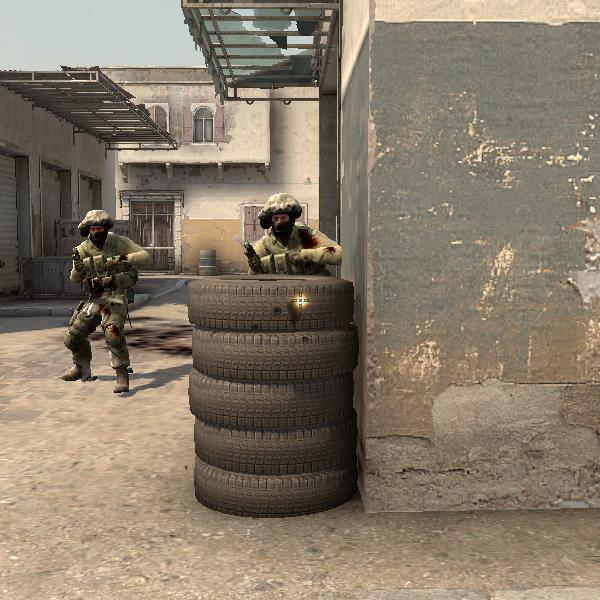ct_body: (210, 194, 347, 269)
ct_head: (259, 196, 306, 243)
